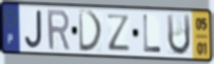D: (77, 9, 105, 54)
J: (24, 9, 44, 50)
L: (142, 14, 163, 54)
R: (45, 9, 72, 52)
U: (165, 12, 192, 57)
Z: (105, 13, 131, 53)
